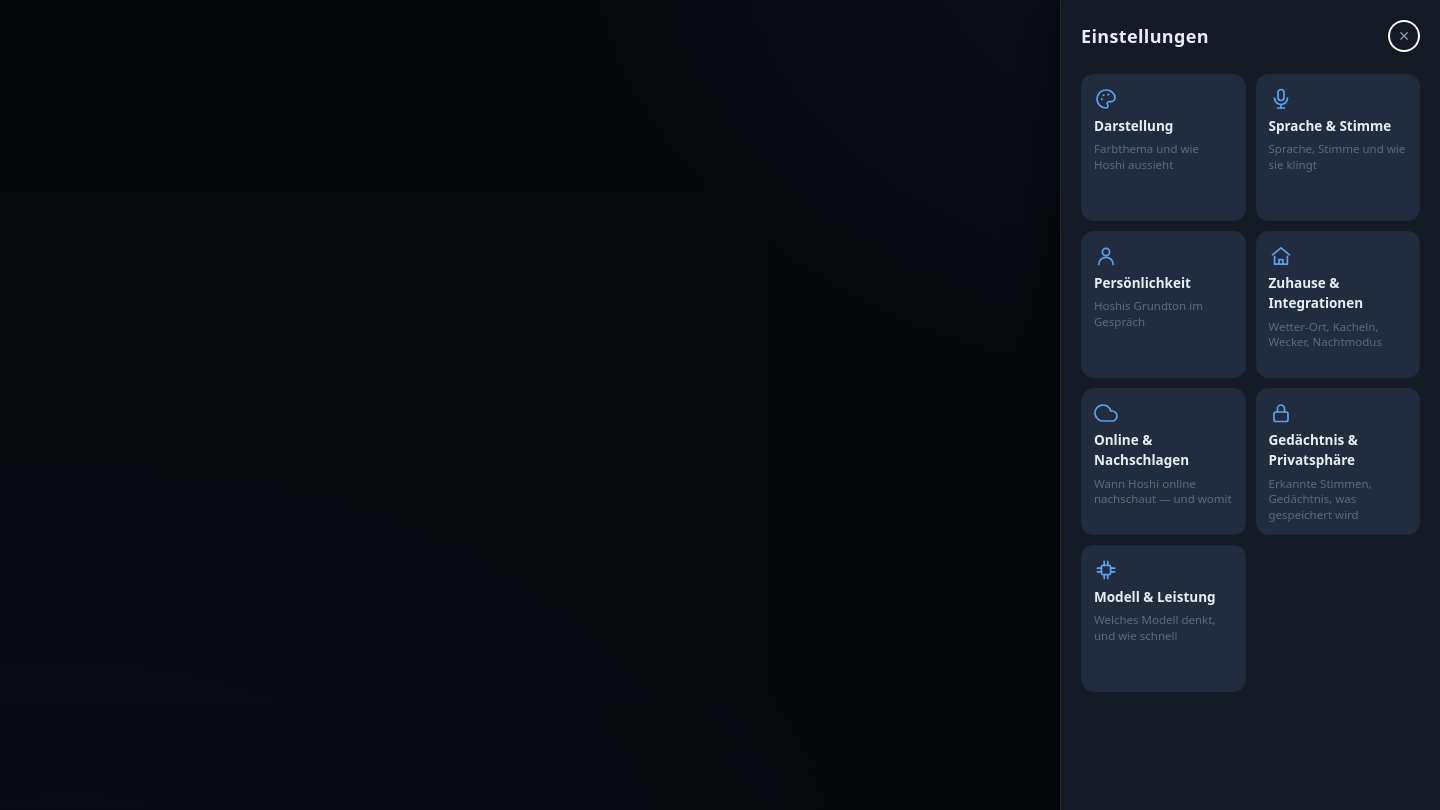
Test case: Online & Nachschlagen — Nachschlag-Modell-Kaskade › Stufe AUTOMATISCH (≠ Aus): die Nachschlag-Modell-Karte ist sichtbar
Step 1. Click the button with id "settings-card-online-nachschlagen" → click(1163, 462), box [1081,388,1246,535]
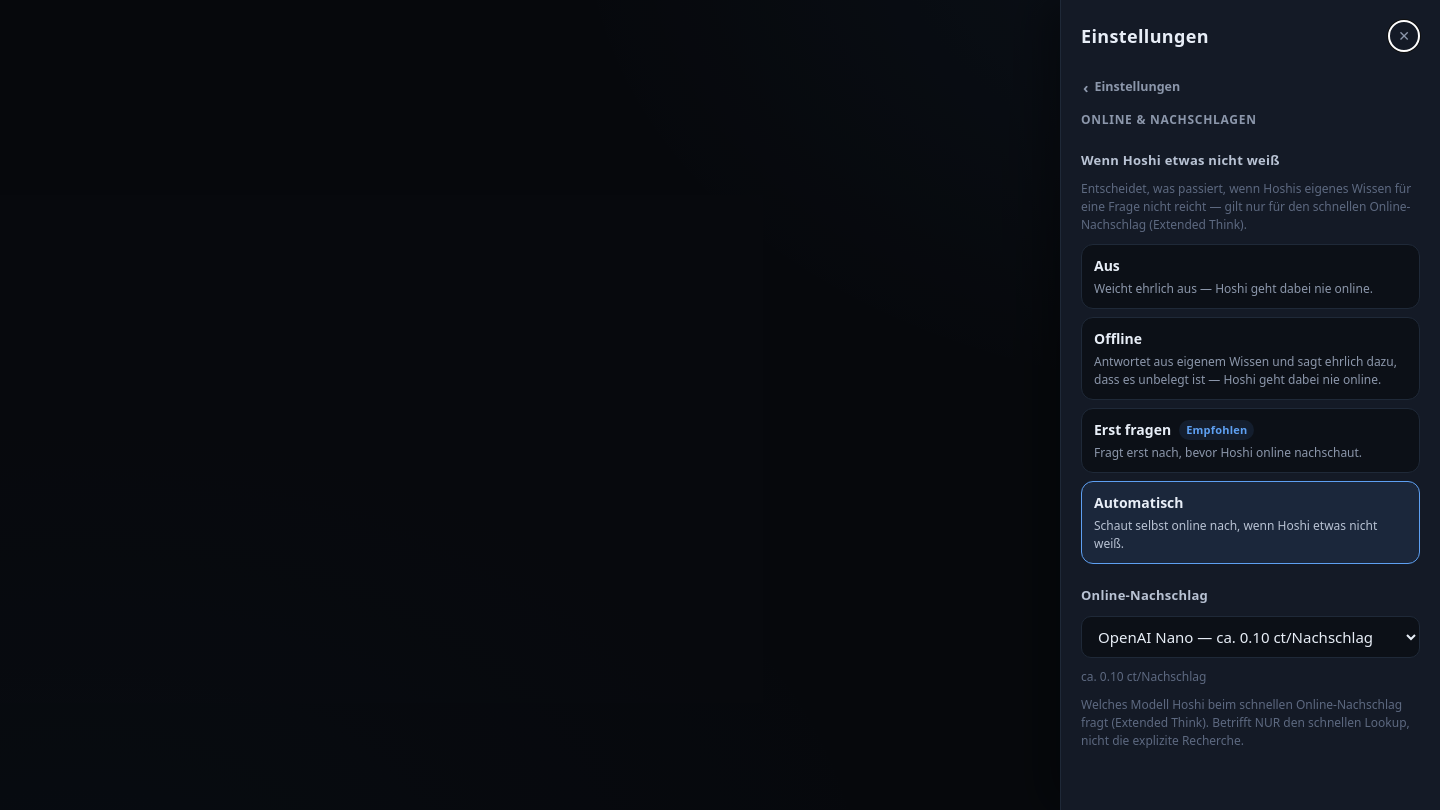
expect the dropdown with id "settings-lookup-model" is shown: met, box [1081,616,1420,658]
